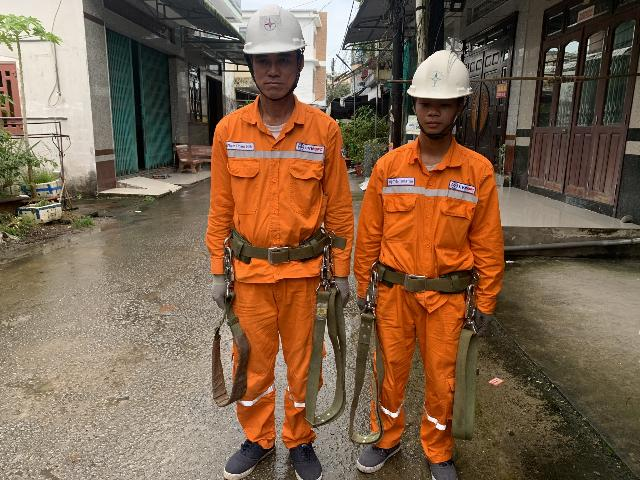gloves: (462, 299, 496, 338), (205, 273, 242, 307), (330, 273, 357, 311), (349, 280, 370, 318)
harness: (363, 250, 478, 310), (217, 219, 337, 268)
helmet: (235, 2, 311, 60), (400, 49, 476, 101)
shoes: (214, 423, 273, 480), (349, 433, 407, 477), (282, 433, 331, 480), (412, 447, 463, 480)
